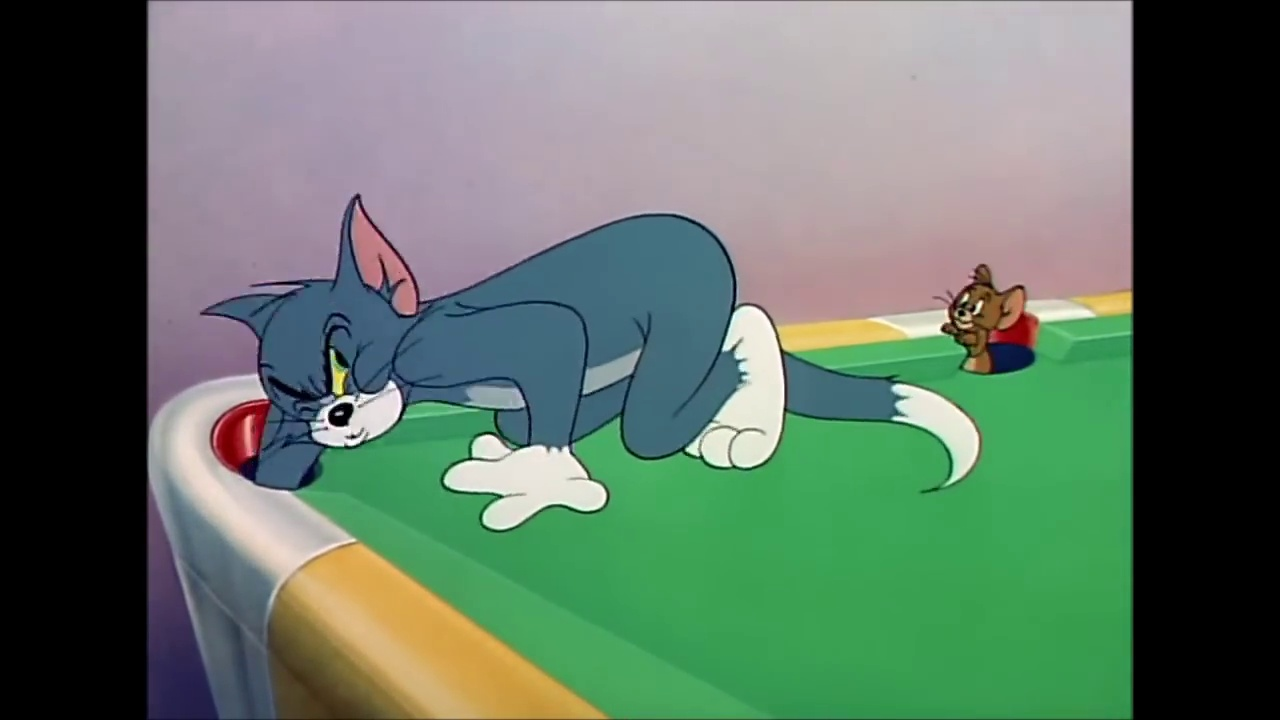angry: (270, 311, 363, 452)
happy: (953, 282, 995, 329)
